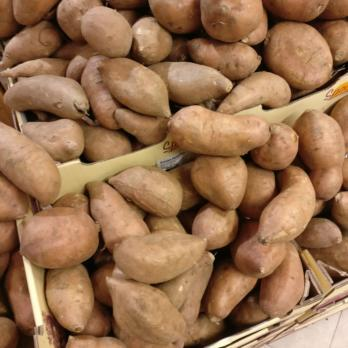Sweet potato: (0, 111, 348, 284), (2, 0, 347, 69), (0, 284, 189, 346), (1, 68, 294, 104), (192, 287, 268, 340)
